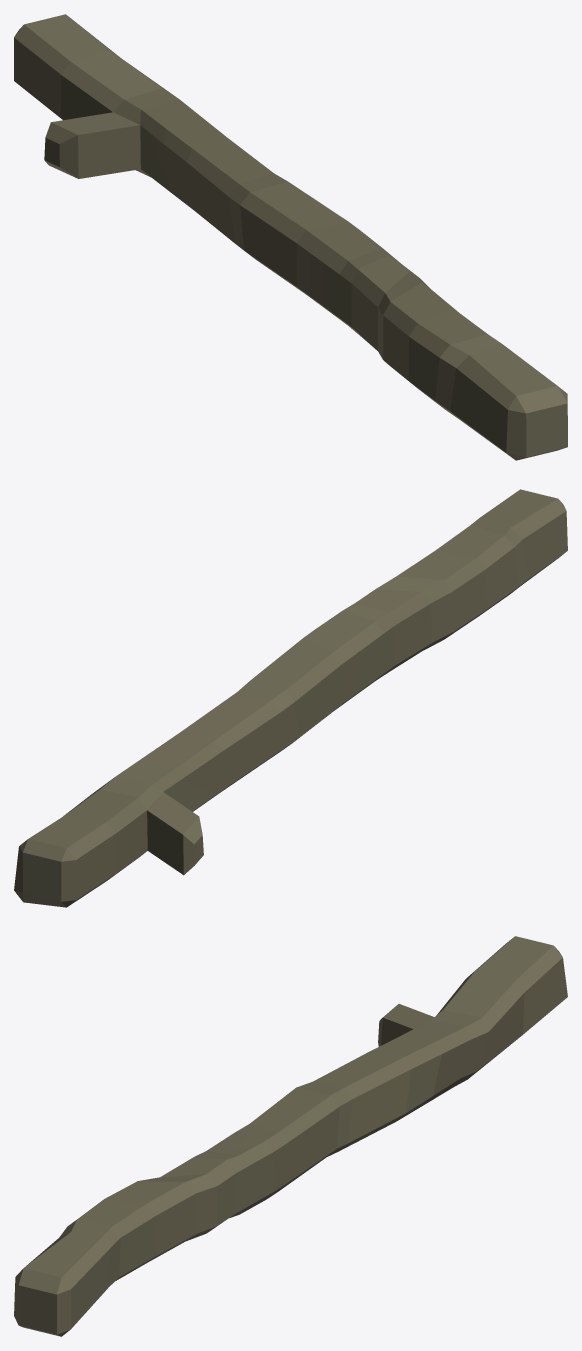
File: AshTwig.fbx
The picture shows the model from 3 angles, top to bottom: view 1: azimuth 30°, elevation 25°; view 2: azimuth 150°, elevation 25°; view 3: azimuth 330°, elevation 25°; orthographic projection. The views are drawn at different scales.
Parts seen in each view (by area): view 1: Cube.001; view 2: Cube.001; view 3: Cube.001.
Boxes of the visible parts, <box> form: Cube.001: <box>14,14,567,460</box>; Cube.001: <box>14,489,567,907</box>; Cube.001: <box>14,936,567,1336</box>.
Size of the model in its own units: 51.99 by 38.28 by 389.
